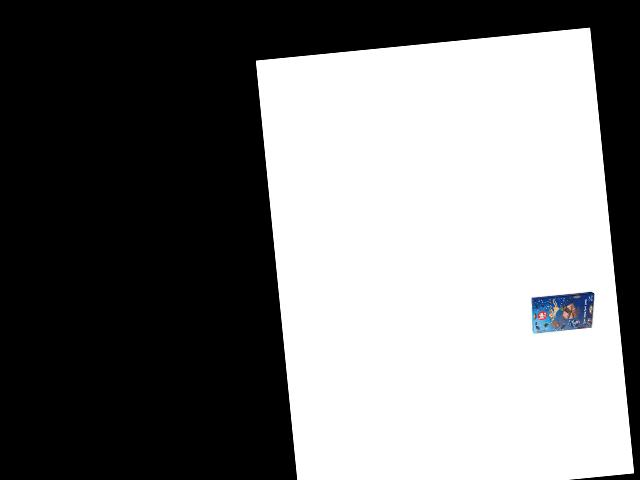chocolate: (527, 287, 598, 338)
